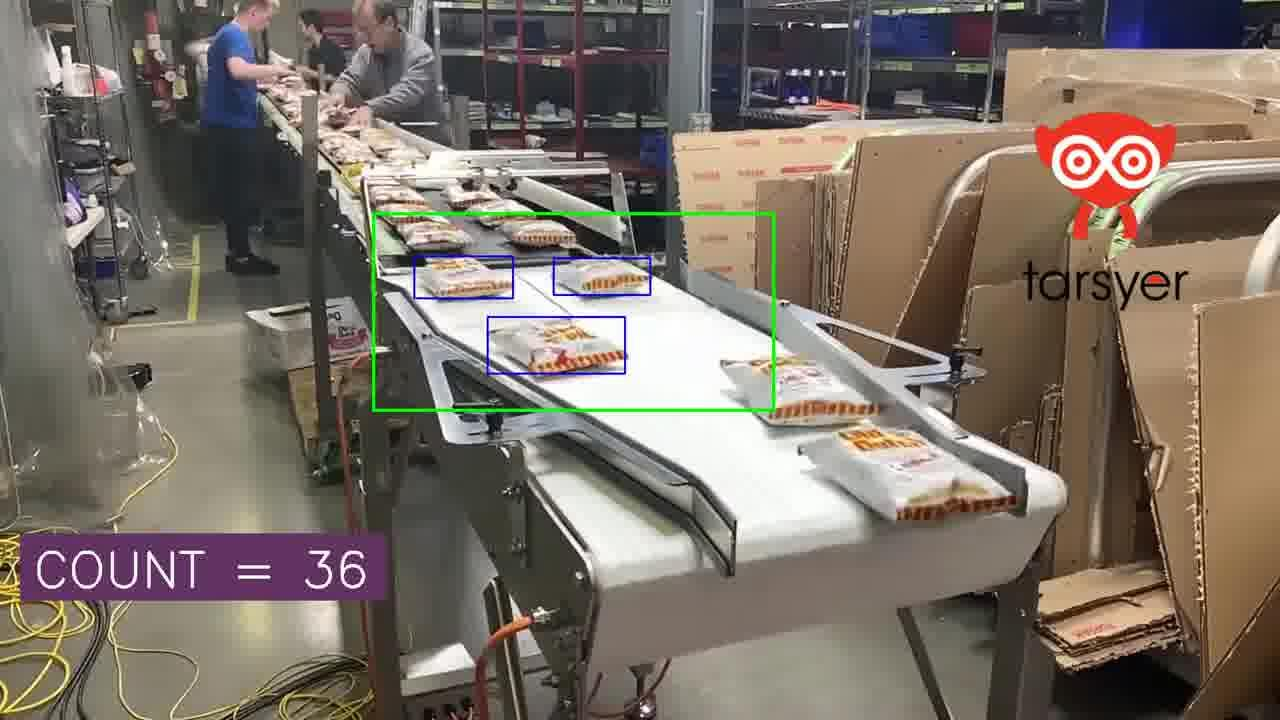Snack: (801, 423, 1016, 521), (721, 356, 882, 426), (490, 319, 625, 373), (415, 257, 513, 298), (555, 259, 651, 295), (396, 216, 476, 253), (499, 217, 576, 248), (468, 199, 536, 227), (369, 184, 428, 209), (376, 201, 432, 227), (443, 183, 499, 209), (359, 128, 404, 155), (380, 145, 427, 165)
